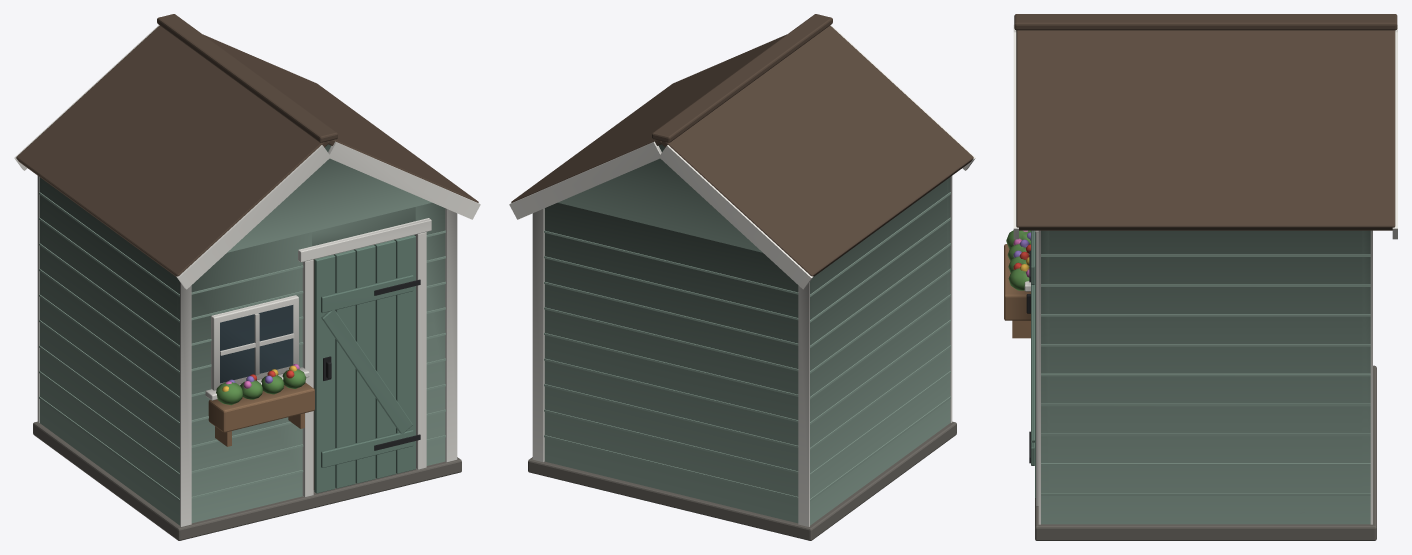
Rendered from shedSmall.glb.
The picture shows the model from 3 angles, left to right: view 1: azimuth 30°, elevation 25°; view 2: azimuth 150°, elevation 25°; view 3: azimuth 270°, elevation 25°; orthographic projection. The views are drawn at different scales.
Visible parts, largest first — view 1: shed, door; view 2: shed; view 3: shed, door.
Boxes of the visible parts, box(x1,y1,x2,y2) form: shed: box(14, 14, 480, 540); door: box(314, 235, 420, 493); shed: box(509, 14, 975, 540); shed: box(1004, 14, 1397, 540); door: box(1026, 230, 1035, 498).
Size of the model in its own units: 1.98 by 2.37 by 1.91.
